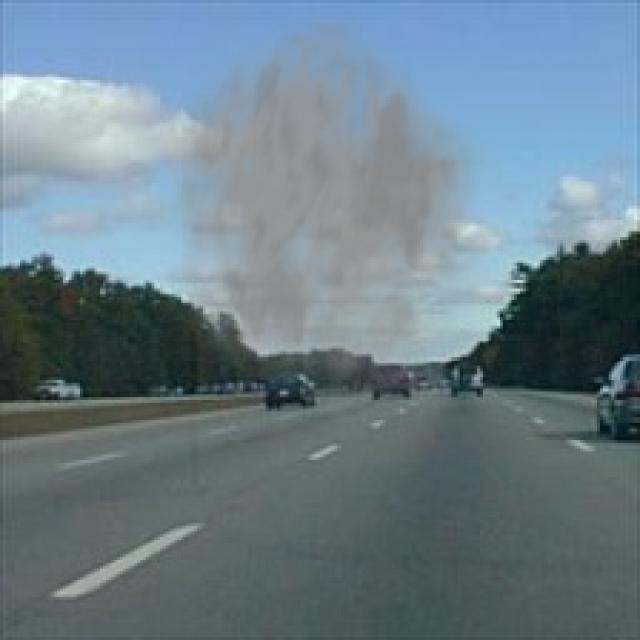smoke: (160, 17, 503, 432)
